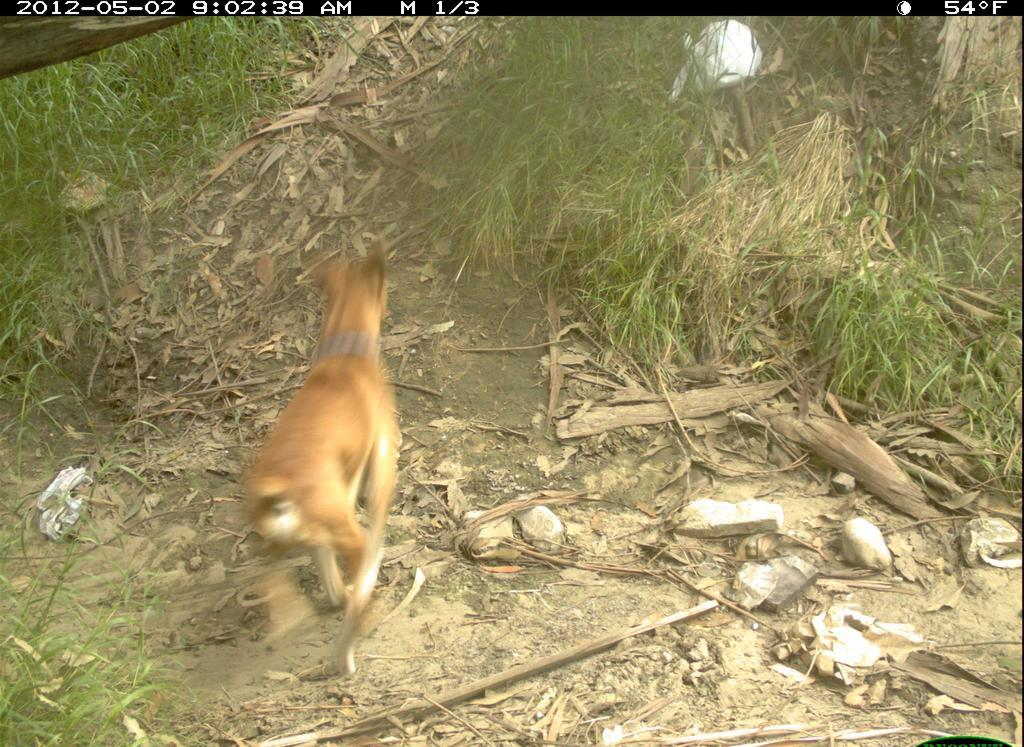dog: (234, 239, 422, 683)
